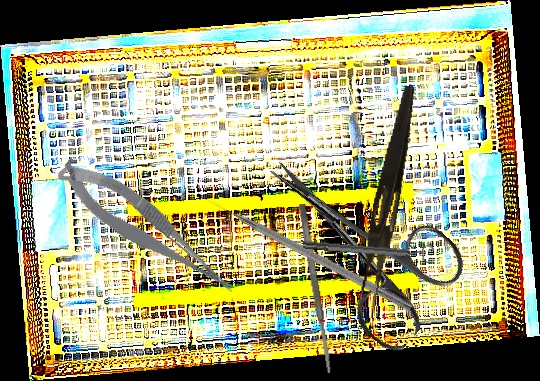Dressing Forceps: (357, 83, 419, 309)
Fixation Ring: (302, 233, 435, 266)
Hook Surgical: (199, 191, 415, 313)
Iris Scissors: (231, 121, 478, 358)
Micro Scissor: (51, 143, 242, 317)
Spatula Surgical: (297, 203, 334, 374)
